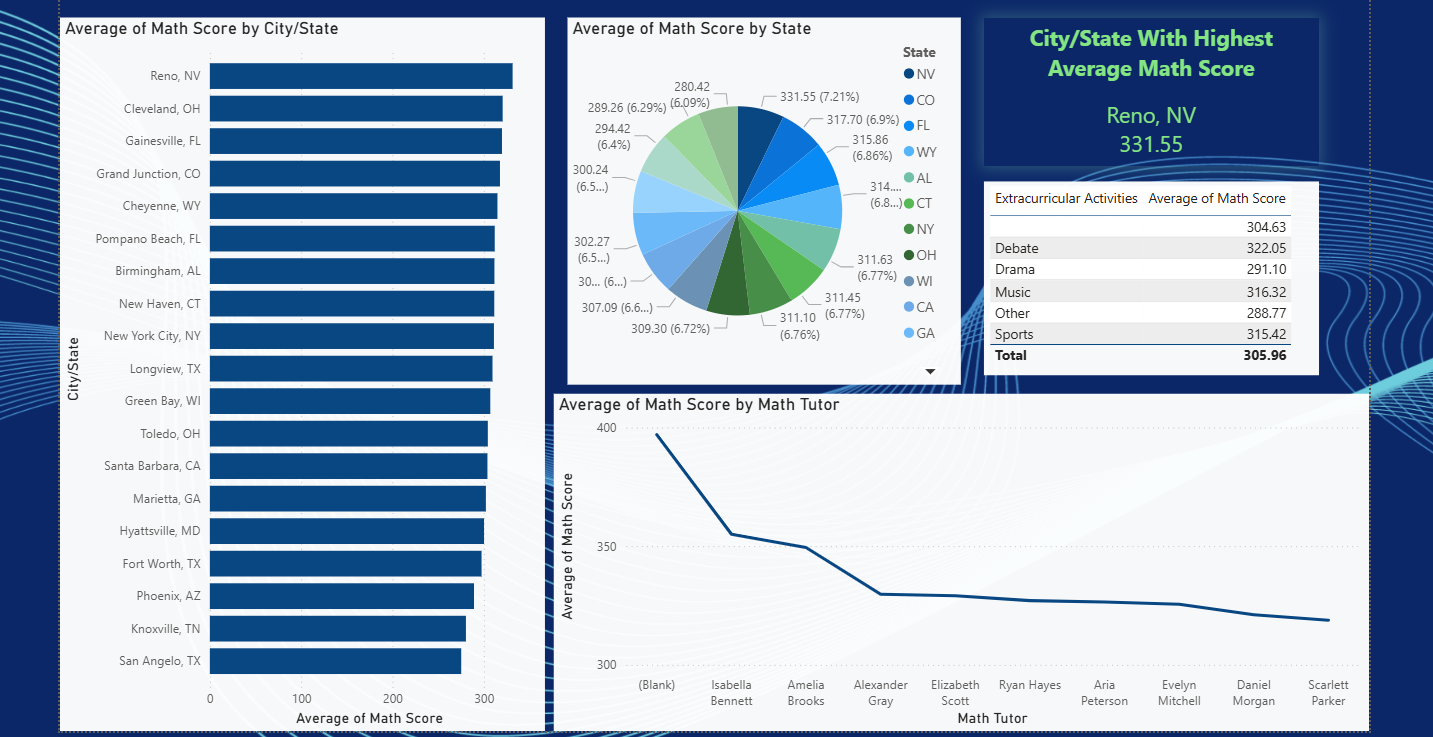

The page's visual inventory and layout, read from the dashboard file:
{"tool":"powerbi","page":{"name":"Page 1","canvas":[1280,720],"ordinal":0},"visuals":[{"type":"barChart","fields":{"Y":["Test Scores.Math Score"],"Category":["Test Scores.City/State"]},"box":[0,22,474.5,698.2],"z":0},{"type":"pieChart","fields":{"Category":["Test Scores.State"],"Y":["Test Scores.Math Score"]},"box":[496.5,22,385.2,359.5],"z":1000},{"type":"lineChart","fields":{"Category":["Test Scores.Math Tutor"],"Y":["Test Scores.Math Score"]},"box":[483,390.1,797.3,330.2],"z":2000},{"type":"tableEx","fields":{"Values":["StudentData.Extracurricular Activities","Test Scores.Math Score"]},"box":[903.7,182.2,327.7,189.5],"z":3000},{"type":"textbox","box":[903.7,22,327.7,145.5],"z":4000}]}

Visuals, with their boxes on the page's 1280x720 design canvas (x1, y1, x2, y2). These are canvas units, not pixel positions in the 1433x737 screenshot, which may show the page scaled, cropped or inside an application window:
barChart - Test Scores.Math Score x Test Scores.City/State: (x1=0, y1=22, x2=474, y2=720)
pieChart - Test Scores.State x Test Scores.Math Score: (x1=496, y1=22, x2=882, y2=382)
lineChart - Test Scores.Math Tutor x Test Scores.Math Score: (x1=483, y1=390, x2=1280, y2=720)
tableEx - StudentData.Extracurricular Activities x Test Scores.Math Score: (x1=904, y1=182, x2=1231, y2=372)
textbox: (x1=904, y1=22, x2=1231, y2=168)
